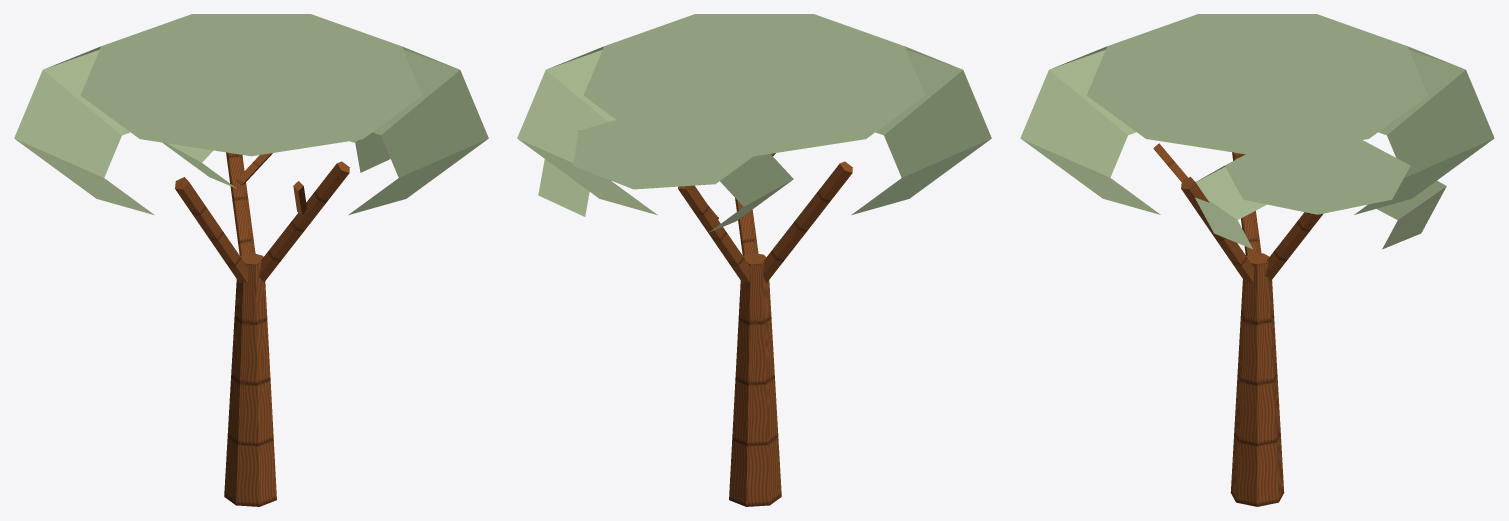
Rendered from safari-camp-and-bush-lodge-acacia-tree-small-f92e0d66__37712.glb.
The picture shows the model from 3 angles, left to right: view 1: azimuth 30°, elevation 25°; view 2: azimuth 150°, elevation 25°; view 3: azimuth 270°, elevation 25°; orthographic projection.
Visible parts, largest first — view 1: acacia-tree-small-scrub, acacia-tree-small-timber; view 2: acacia-tree-small-scrub, acacia-tree-small-timber; view 3: acacia-tree-small-scrub, acacia-tree-small-timber.
Boxes of the visible parts, x1,y1,x2,y2 form: acacia-tree-small-scrub: (14,14,488,215); acacia-tree-small-timber: (175,152,349,506); acacia-tree-small-scrub: (517,14,991,232); acacia-tree-small-timber: (678,153,852,506); acacia-tree-small-scrub: (1020,14,1494,249); acacia-tree-small-timber: (1153,143,1323,506).
Size of the model in its own units: 4.66 by 4.54 by 4.73.
Materials: 2 (1 with a texture image).
